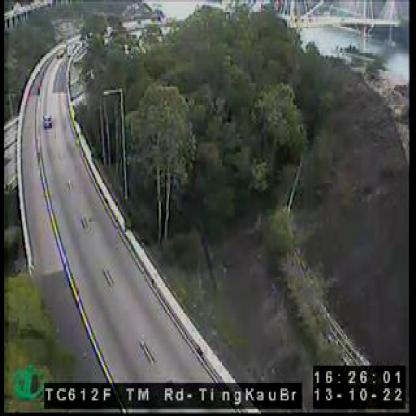Car: (45, 112, 54, 128)
